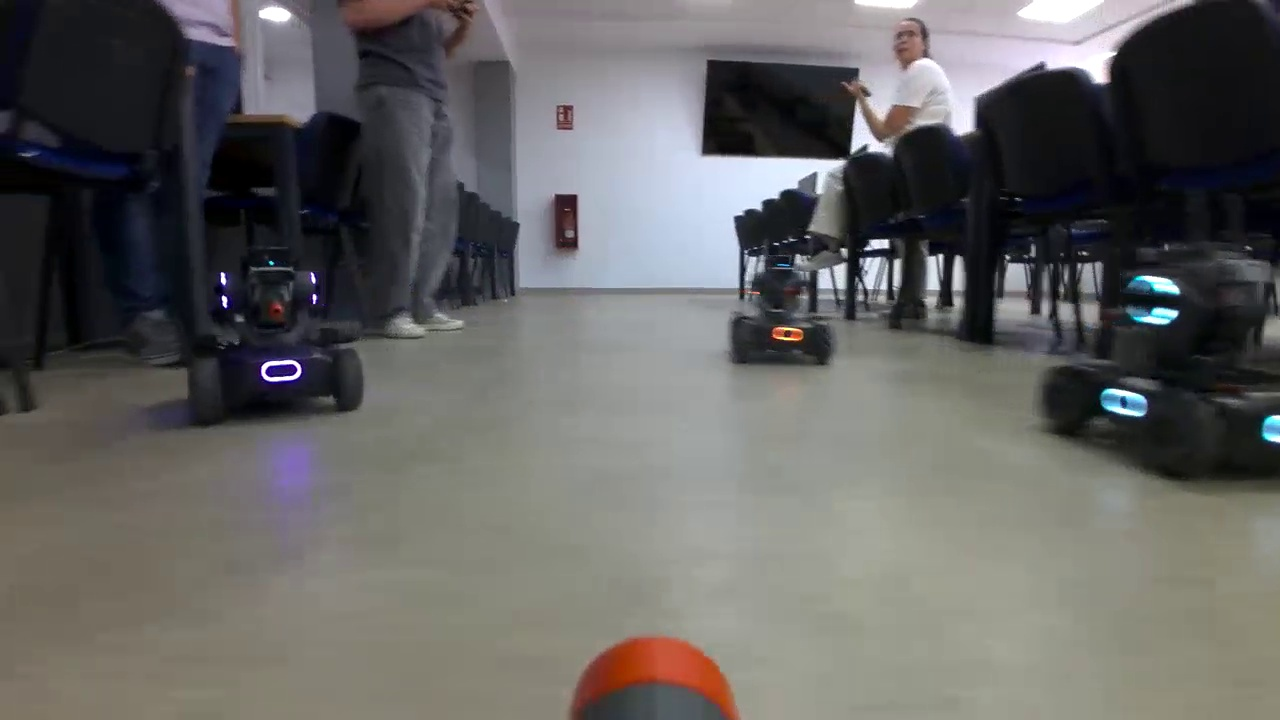robot: (1040, 270, 1280, 478), (188, 255, 365, 425), (728, 270, 838, 365)
